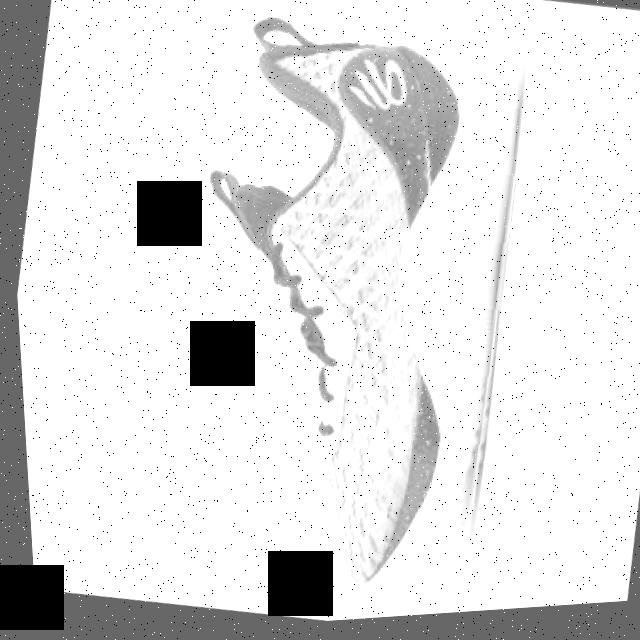shoe: (132, 0, 563, 633)
